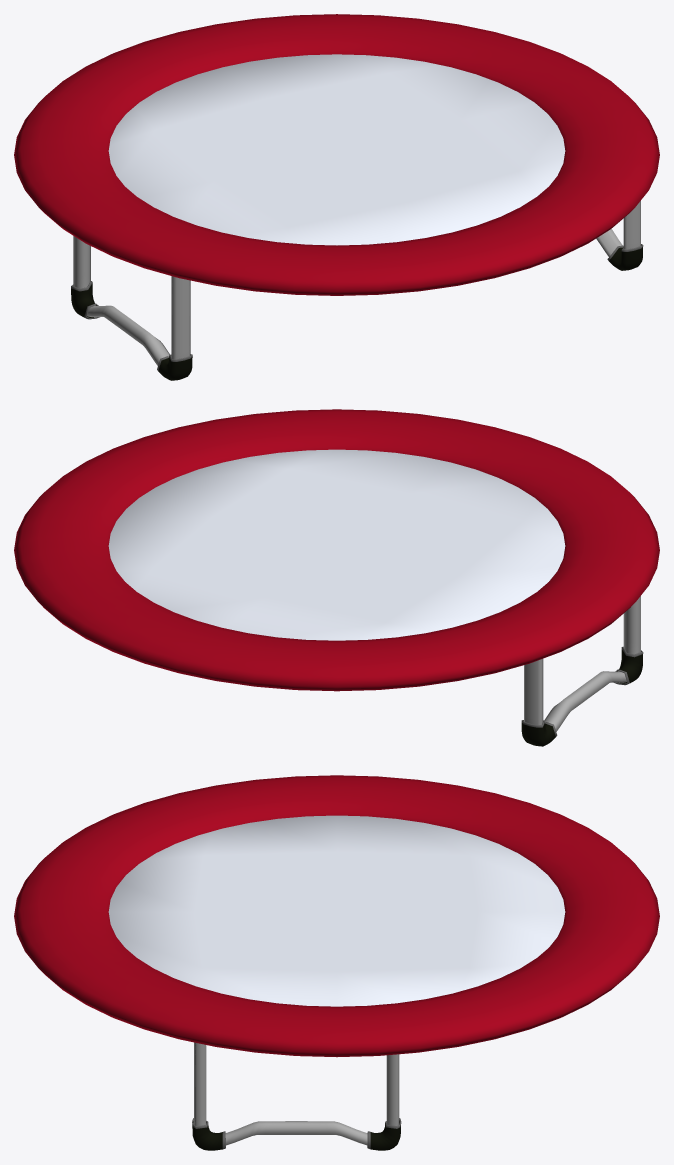
File: trampoline_red.glb
The picture shows the model from 3 angles, top to bottom: view 1: azimuth 30°, elevation 25°; view 2: azimuth 150°, elevation 25°; view 3: azimuth 270°, elevation 25°; orthographic projection.
Visible parts, largest first — view 1: Circle.003, BezierCurve.003_Mesh.002, BezierCurve.003_Mesh.003; view 2: Circle.003, BezierCurve.003_Mesh.002, BezierCurve.003_Mesh.003; view 3: Circle.003, BezierCurve.003_Mesh.002, BezierCurve.003_Mesh.003.
Part boxes in pixels (x1=…): Circle.003: x1=14, y1=14, x2=659, y2=295; BezierCurve.003_Mesh.002: x1=73, y1=201, x2=640, y2=365; BezierCurve.003_Mesh.003: x1=71, y1=244, x2=643, y2=380; Circle.003: x1=14, y1=409, x2=659, y2=691; BezierCurve.003_Mesh.002: x1=524, y1=596, x2=640, y2=731; BezierCurve.003_Mesh.003: x1=521, y1=646, x2=643, y2=746; Circle.003: x1=14, y1=775, x2=659, y2=1057; BezierCurve.003_Mesh.002: x1=194, y1=1042, x2=399, y2=1145; BezierCurve.003_Mesh.003: x1=192, y1=1118, x2=401, y2=1150.
Size of the model in its own units: 1.71 by 0.3992 by 1.71.
